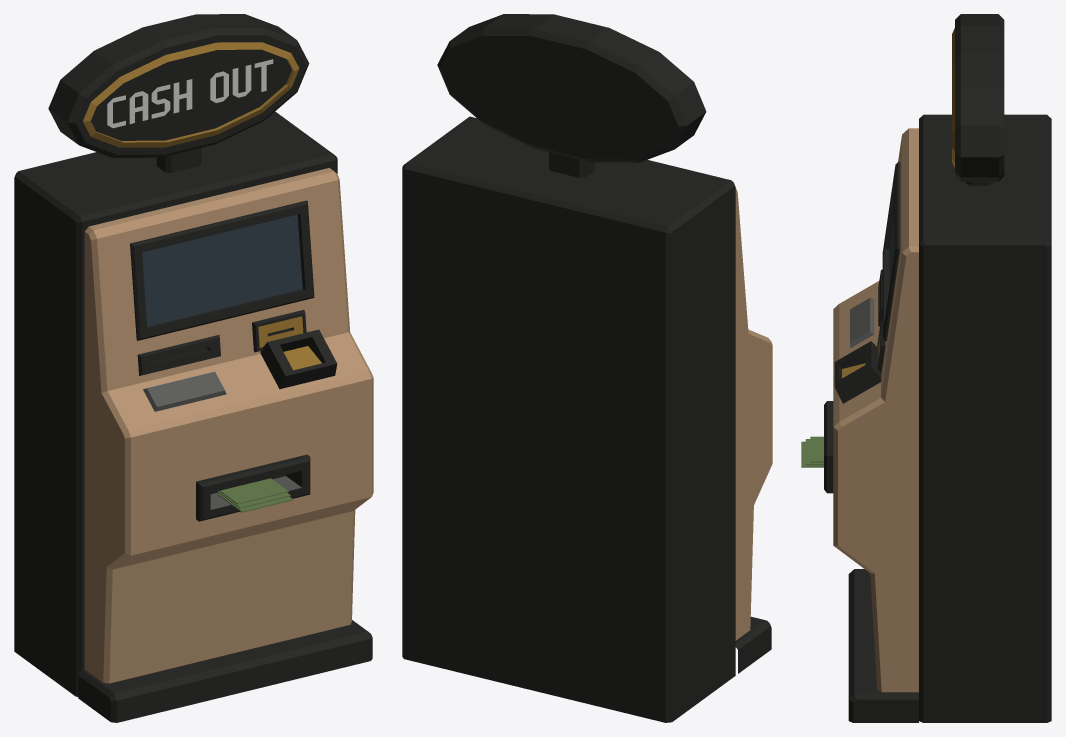
The model's file is ticket-redemption-kiosk-052608.glb.
3 views of the same model, side by side, from view 1: azimuth 30°, elevation 25°; view 2: azimuth 150°, elevation 25°; view 3: azimuth 270°, elevation 25° (orthographic). The views are drawn at different scales.
Visible parts, largest first — view 1: kiosk; view 2: kiosk; view 3: kiosk.
Boxes of the visible parts, x1=… form: kiosk: x1=14, y1=14, x2=373, y2=722; kiosk: x1=402, y1=14, x2=772, y2=722; kiosk: x1=801, y1=14, x2=1051, y2=722.
Size of the model in its own units: 0.8 by 1.8 by 0.66.
